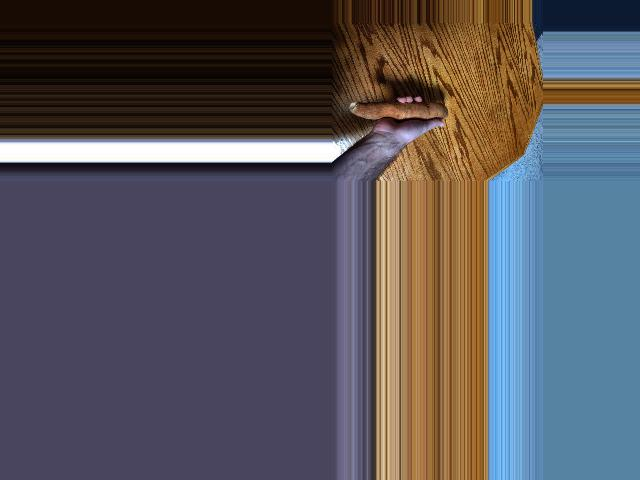sweet_potato: (347, 100, 448, 130)
